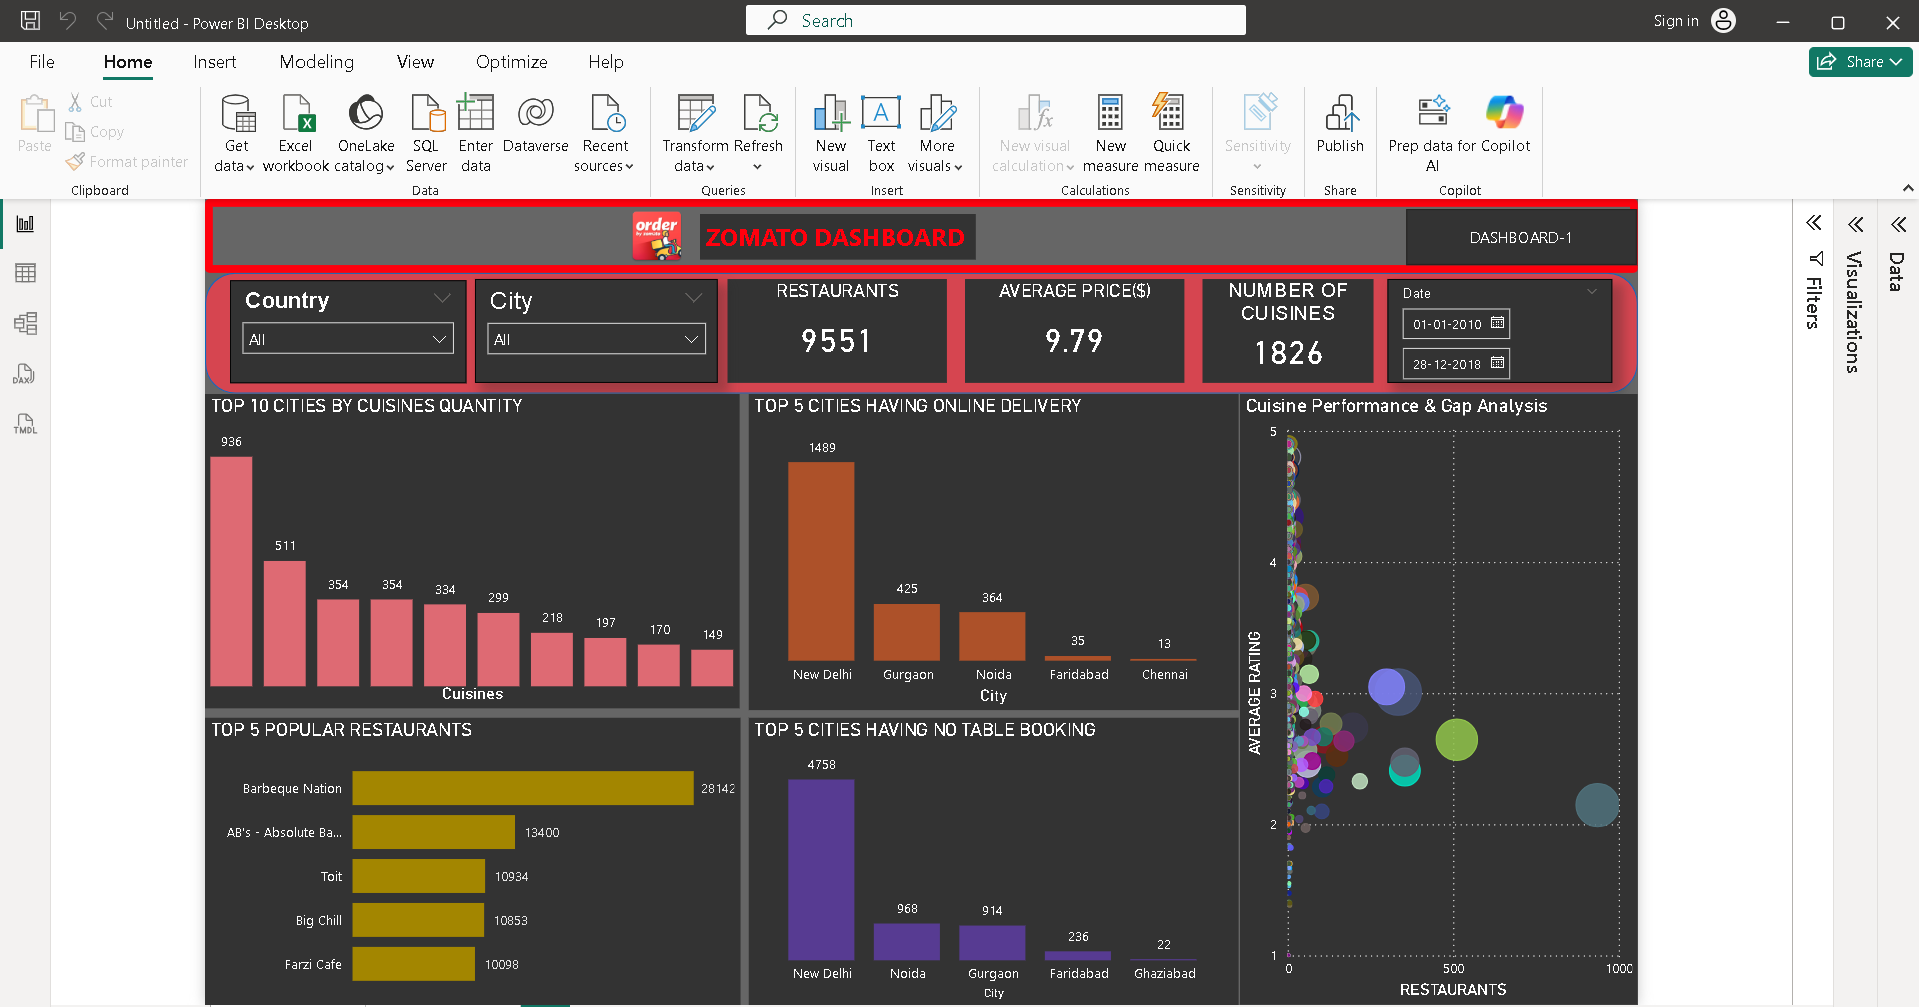

What the dashboard file says about the page in this screenshot:
{"tool":"powerbi","page":{"name":"DASHBOARD-2","canvas":[1280,720],"ordinal":1},"visuals":[{"type":"shape","box":[0,0,1280,66],"z":0},{"type":"textbox","box":[442,13,246,41],"z":1000},{"type":"image","box":[365,6,77,54],"z":2000},{"type":"shape","box":[0,66,1280,108],"z":3000},{"type":"slicer","fields":{"Values":["Main Table.Countryname"]},"box":[22,73,211,92],"z":4000},{"type":"card","title":"RESTAURANTS","fields":{"Values":["CountNonNull(Main Table.RestaurantID)"]},"box":[467,72,196,93],"z":5000},{"type":"slicer","fields":{"Values":["Main Table.City"]},"box":[241,72,217,93],"z":6000},{"type":"card","title":"AVERAGE PRICE($)","fields":{"Values":["Avg(Main Table.Avg_Price($))"]},"box":[679,72,196,93],"z":7000},{"type":"card","title":"NUMBER OF CUISINES","fields":{"Values":["Count(Main Table.Cuisines)"]},"box":[891,72,153,93],"z":8000},{"type":"slicer","fields":{"Values":["Date.Date"]},"box":[1056,72,201,93],"z":9000},{"type":"barChart","title":"TOP 5 POPULAR RESTAURANTS","fields":{"Category":["Main Table.RestaurantName"],"Y":["Sum(Main Table.Votes)"]},"box":[0,463,478,257],"z":10000},{"type":"columnChart","title":"TOP 10 CITIES BY CUISINES QUANTITY","fields":{"Category":["Main Table.Cuisines"],"Y":["CountNonNull(Main Table.RestaurantID)"]},"box":[0,174.4,477.8,281.1],"z":11000},{"type":"columnChart","title":"TOP 5 CITIES HAVING ONLINE DELIVERY","fields":{"Category":["Main Table.City"],"Y":["CountNonNull(Main Table.Has_Online_delivery)"]},"box":[485.6,174.4,437.8,282.2],"z":12000},{"type":"columnChart","title":"TOP 5 CITIES HAVING NO TABLE BOOKING","fields":{"Y":["CountNonNull(Main Table.Has_Table_booking)"],"Category":["Main Table.City"]},"box":[485.6,463.3,437.8,256.7],"z":13000},{"type":"scatterChart","title":"Cuisine Performance & Gap Analysis","fields":{"X":["CountNonNull(Main Table.RestaurantID)"],"Y":["Avg(Main Table.Rating)"],"Size":["Sum(Main Table.Votes)"],"Series":["Main Table.Cuisines"]},"box":[924.4,174.4,355.6,545.6],"z":14000},{"type":"pageNavigator","box":[1073.3,8.9,206.7,50],"z":15000}]}

Visuals, with their boxes on the page's 1280x720 design canvas (x1, y1, x2, y2). These are canvas units, not pixel positions in the 1919x1007 screenshot, which may show the page scaled, cropped or inside an application window:
shape: (left=0, top=0, right=1280, bottom=66)
textbox: (left=442, top=13, right=688, bottom=54)
image: (left=365, top=6, right=442, bottom=60)
shape: (left=0, top=66, right=1280, bottom=174)
slicer - Main Table.Countryname: (left=22, top=73, right=233, bottom=165)
"RESTAURANTS" card: (left=467, top=72, right=663, bottom=165)
slicer - Main Table.City: (left=241, top=72, right=458, bottom=165)
"AVERAGE PRICE($)" card: (left=679, top=72, right=875, bottom=165)
"NUMBER OF CUISINES" card: (left=891, top=72, right=1044, bottom=165)
slicer - Date.Date: (left=1056, top=72, right=1257, bottom=165)
"TOP 5 POPULAR RESTAURANTS" barChart: (left=0, top=463, right=478, bottom=720)
"TOP 10 CITIES BY CUISINES QUANTITY" columnChart: (left=0, top=174, right=478, bottom=456)
"TOP 5 CITIES HAVING ONLINE DELIVERY" columnChart: (left=486, top=174, right=923, bottom=457)
"TOP 5 CITIES HAVING NO TABLE BOOKING" columnChart: (left=486, top=463, right=923, bottom=720)
"Cuisine Performance & Gap Analysis" scatterChart: (left=924, top=174, right=1280, bottom=720)
pageNavigator: (left=1073, top=9, right=1280, bottom=59)
